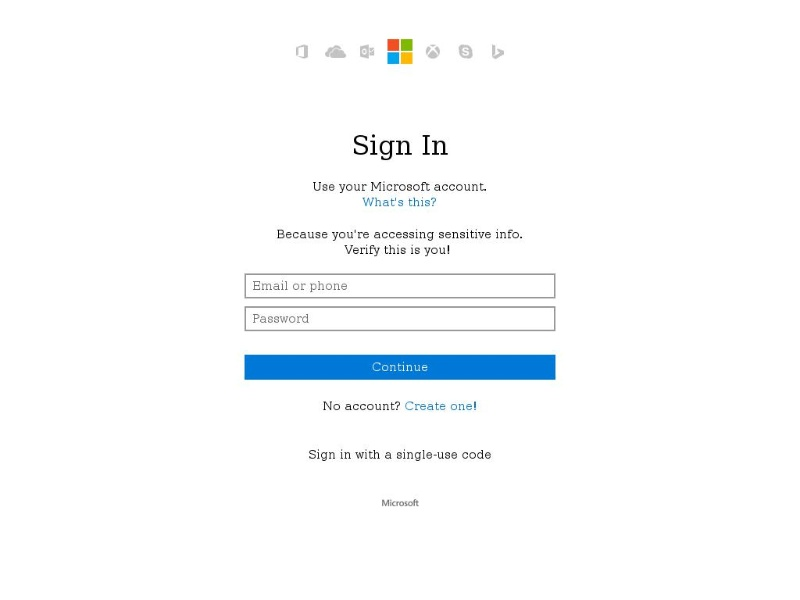msft: (377, 33, 421, 72)
